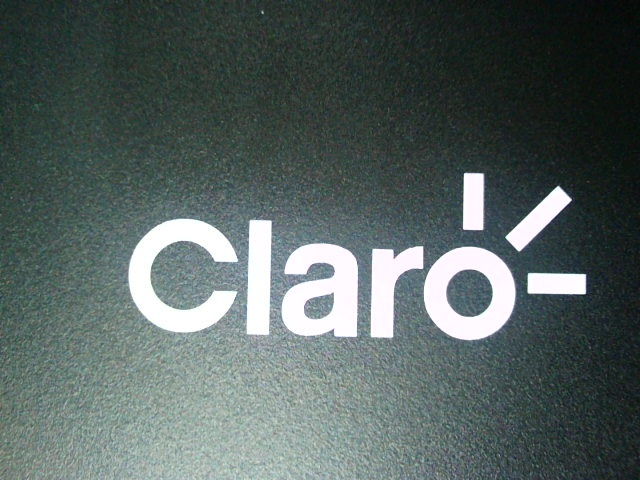BC_Claor: (126, 158, 595, 346)
